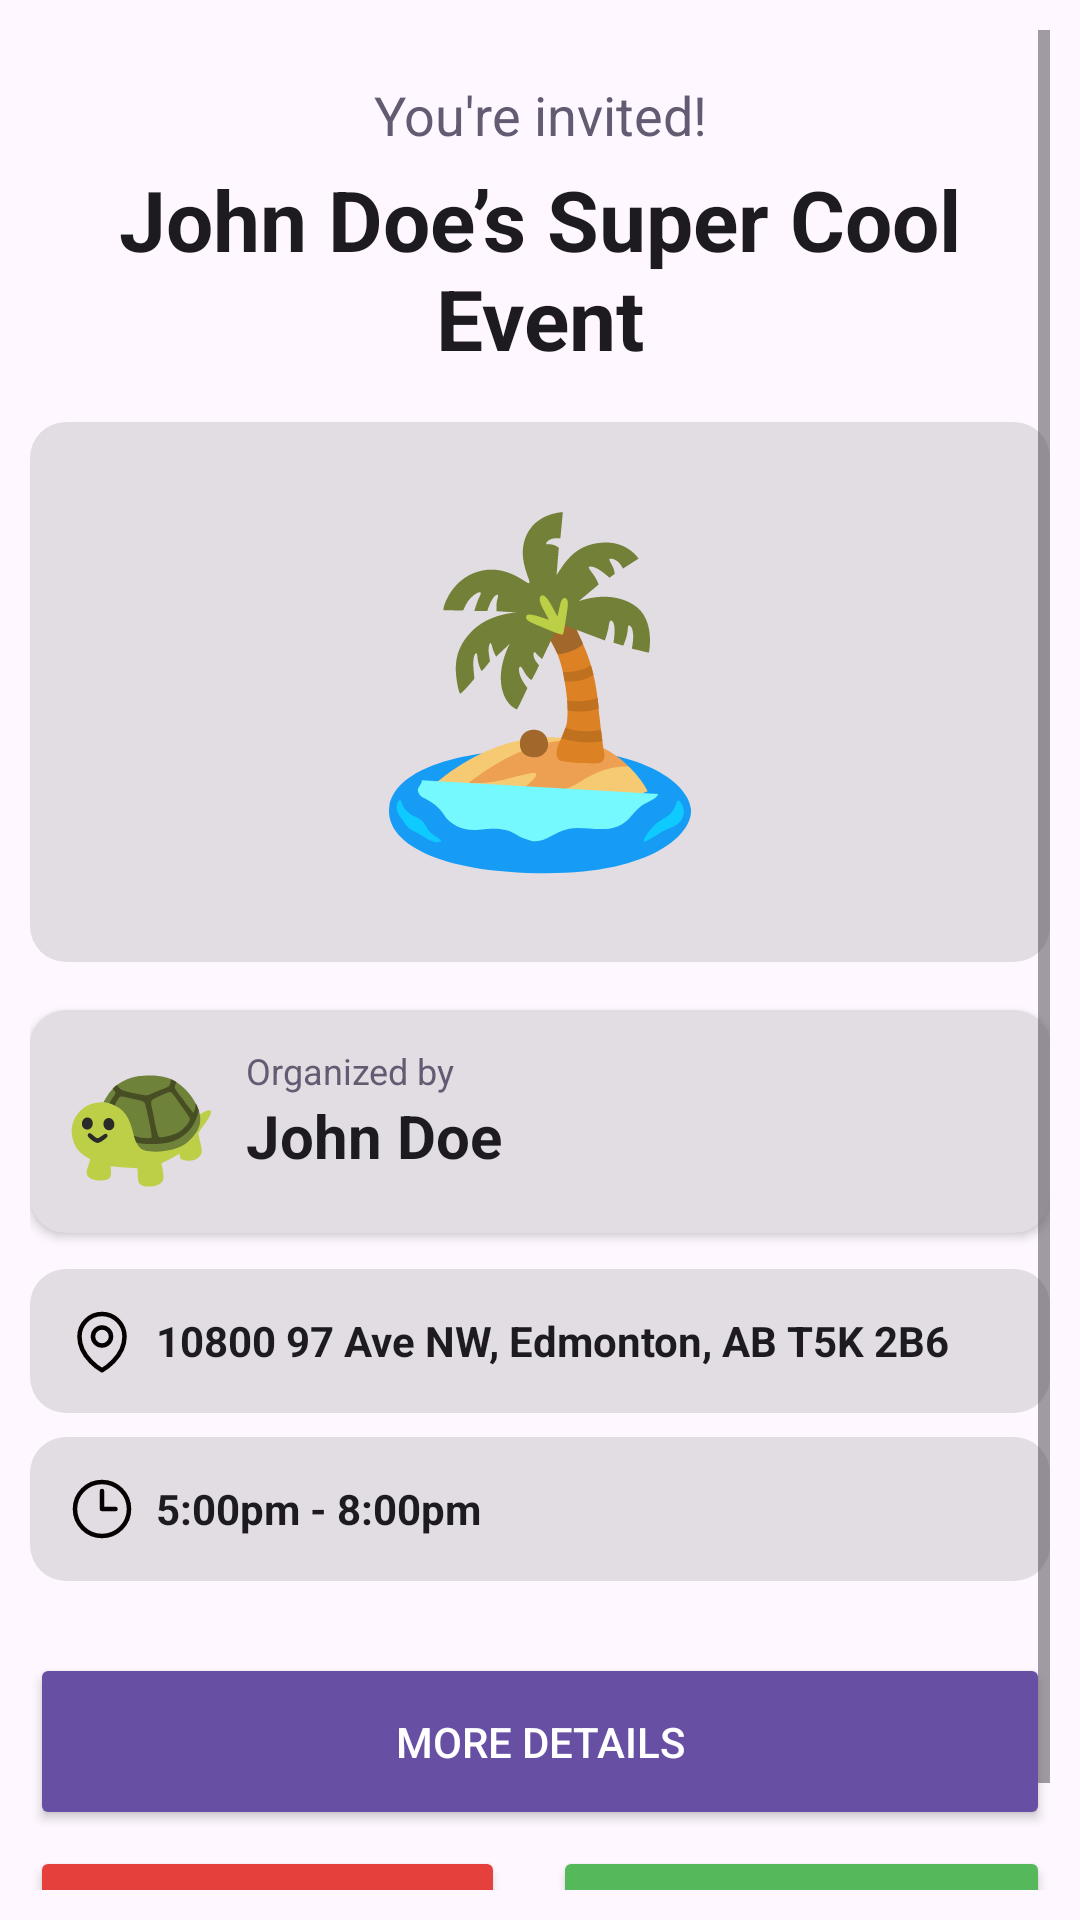

Where icons sit on this 1080w x 1920h app screen, as (x1, y1, x2, y2):
clock: (72, 1479, 132, 1539)
location: (77, 1311, 127, 1373)
